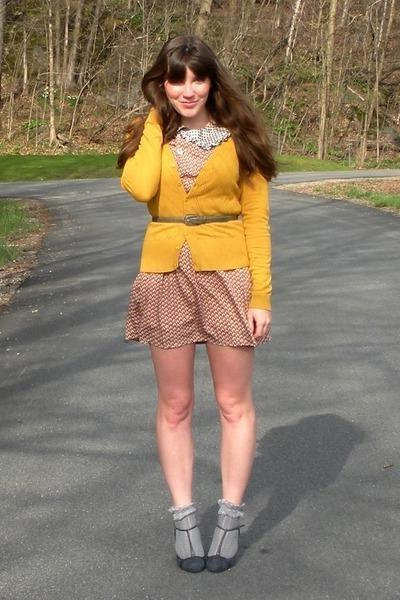dress: (117, 112, 277, 352)
long sleeve shirt: (119, 111, 275, 310)
